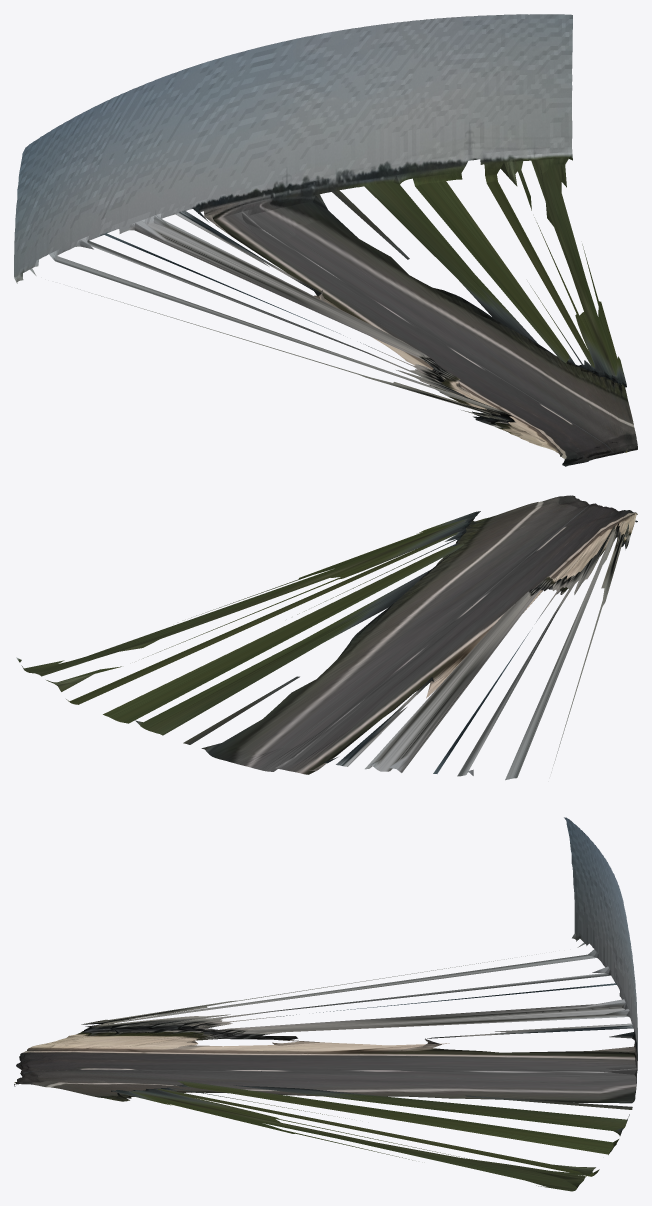
The picture shows the model from 3 angles, top to bottom: view 1: azimuth 30°, elevation 25°; view 2: azimuth 150°, elevation 25°; view 3: azimuth 270°, elevation 25°; orthographic projection. The views are drawn at different scales.
Visible parts, largest first — view 1: defaultobject; view 2: defaultobject; view 3: defaultobject.
Boxes of the visible parts, box(x1,y1,x2,y2) form: defaultobject: box(14, 14, 637, 466); defaultobject: box(16, 495, 637, 780); defaultobject: box(14, 817, 637, 1191).
Size of the model in its own units: 41.16 by 12.32 by 44.39.
Materials: 1 (1 with a texture image).
